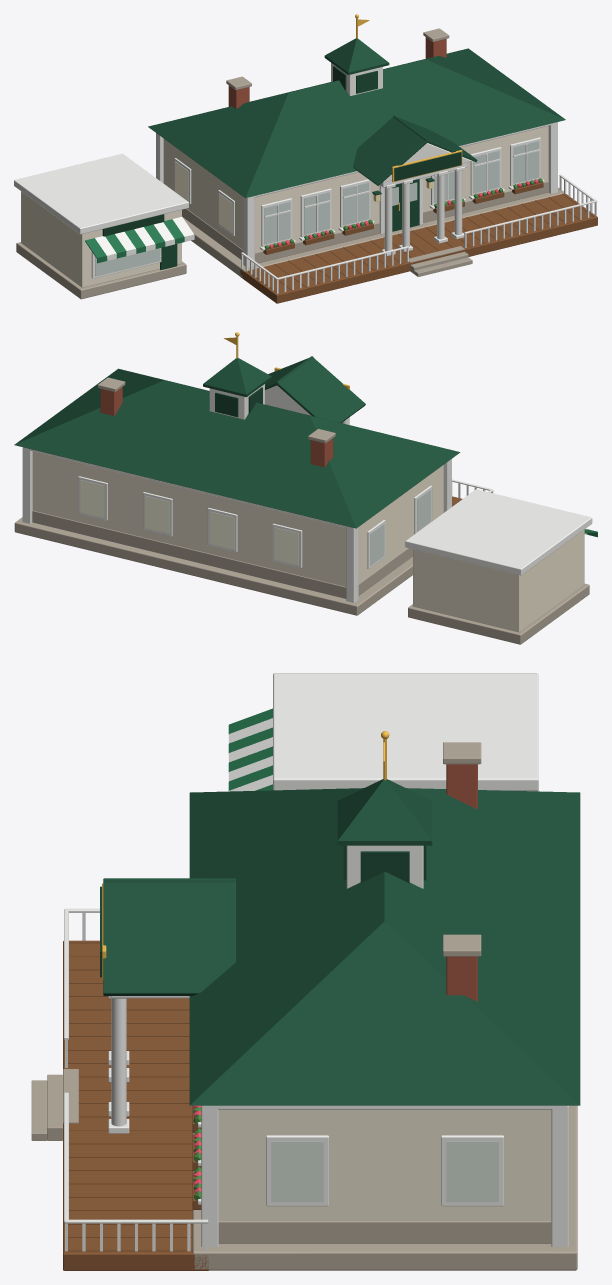
The model's file is KulupBinasi.fbx.
3 renders of one model, top to bottom at view 1: azimuth 30°, elevation 25°; view 2: azimuth 150°, elevation 25°; view 3: azimuth 270°, elevation 25°, orthographic. The views are drawn at different scales.
Visible parts, largest first — view 1: KulupBinasi_Model; view 2: KulupBinasi_Model; view 3: KulupBinasi_Model.
Boxes of the visible parts, <box> form: KulupBinasi_Model: <box>14,14,597,303</box>; KulupBinasi_Model: <box>14,332,597,644</box>; KulupBinasi_Model: <box>31,673,580,1270</box>.
Bounding box in the file's own units: 30.7 × 12.07 × 15.67.
